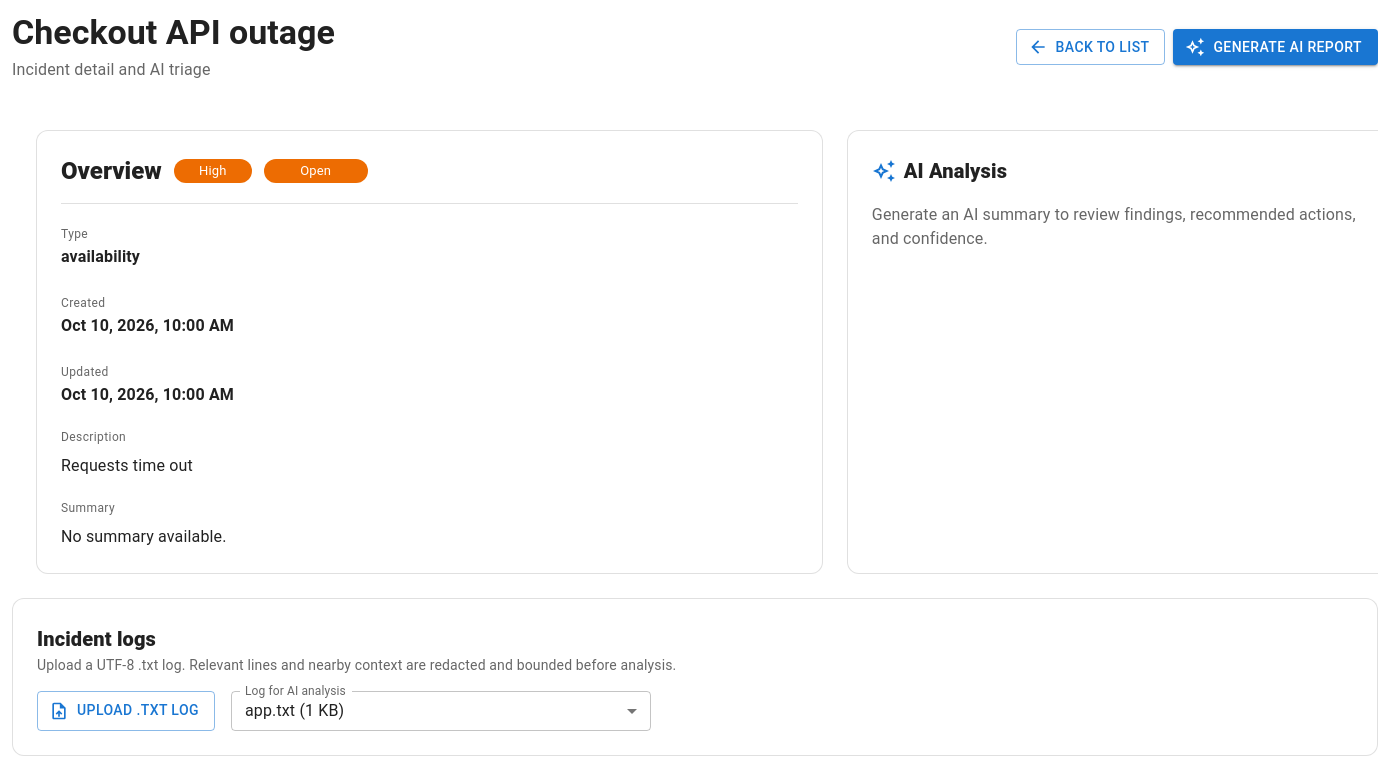
it: core application pages › renders a generated AI report with findings and actions
Click the button "Generate AI report".
click(1276, 47)  # box [1173,29,1378,65]
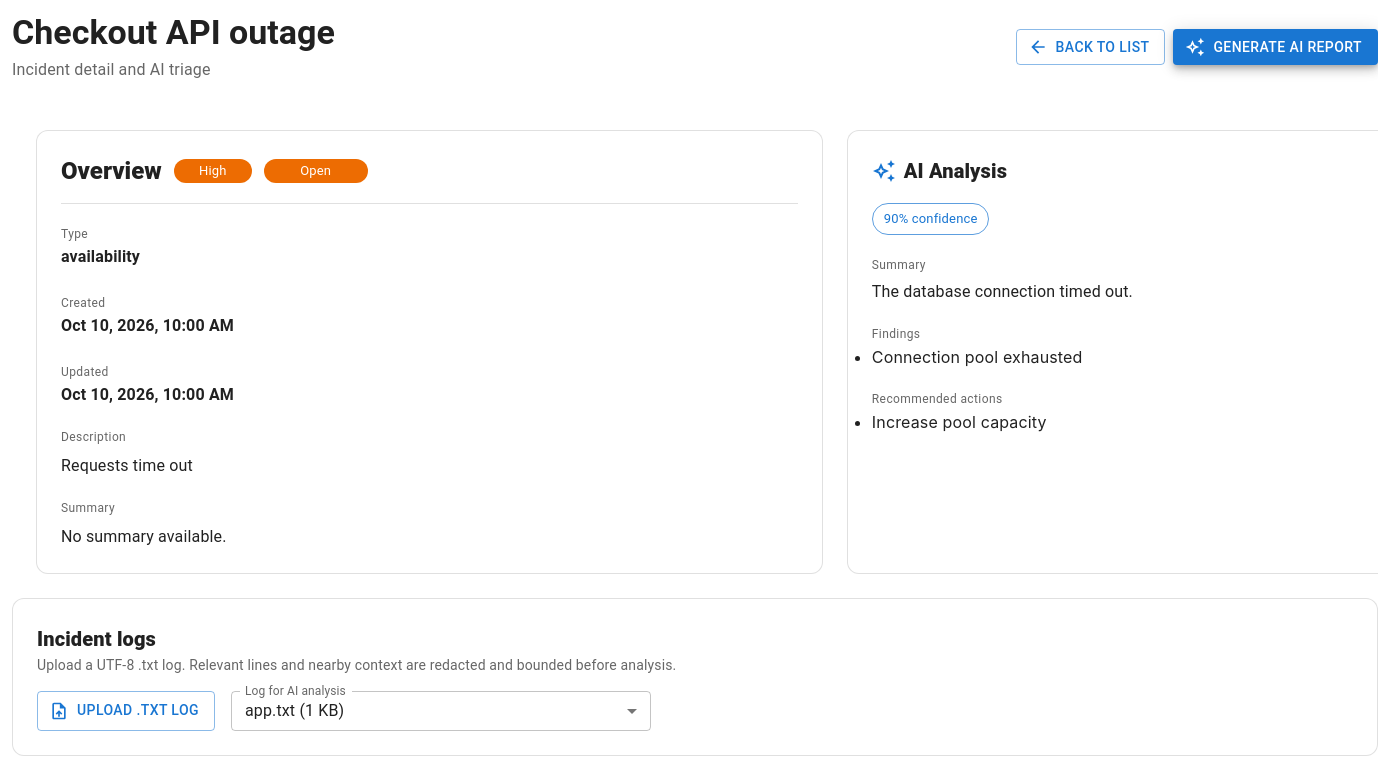
Expected: the text "The database connection timed out." is shown, [872,282,1133,301]
Expected: the list item "Connection pool exhausted" is shown, [872,347,1082,367]
Expected: the list item "Increase pool capacity" is shown, [872,412,1047,432]
